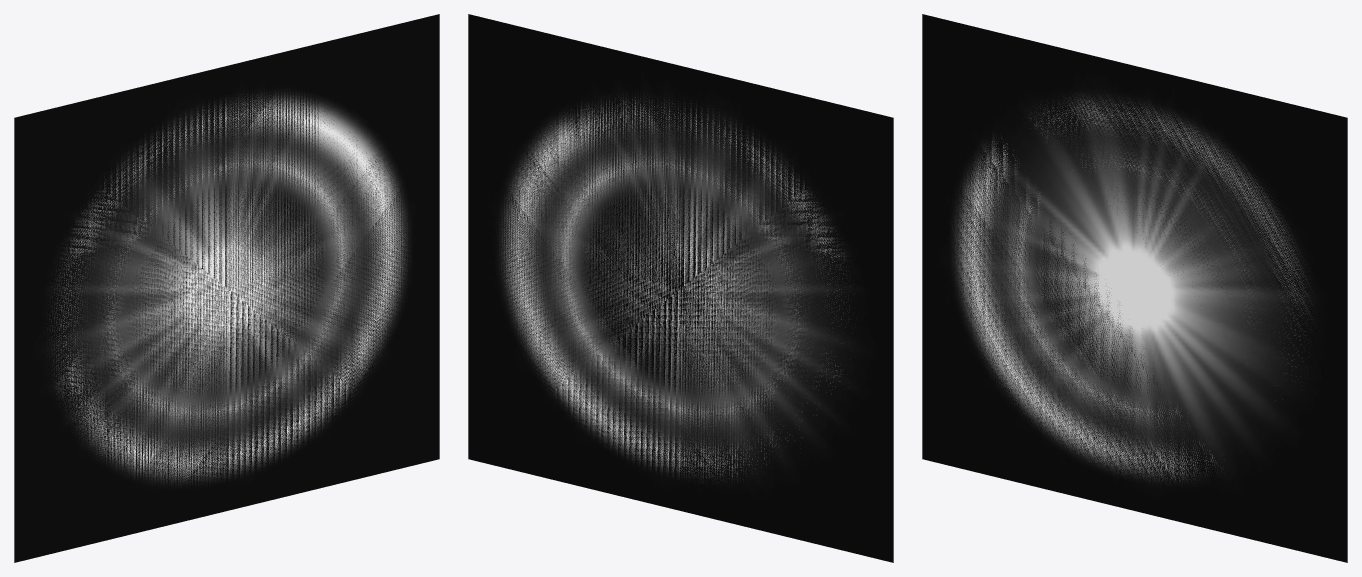
File: si_eah_0210.glb
3 views of the same model, side by side, from view 1: azimuth 30°, elevation 25°; view 2: azimuth 150°, elevation 25°; view 3: azimuth 330°, elevation 25° (orthographic).
Visible parts, largest first — view 1: layer_00_si_est_0003, layer_02_si_est_0404; view 2: layer_00_si_est_0003, layer_02_si_est_0404; view 3: layer_00_si_est_0003, layer_02_si_est_0404.
Part boxes in pixels (x1,y1,x2,y2): layer_00_si_est_0003: [14, 14, 439, 562]; layer_02_si_est_0404: [41, 49, 412, 527]; layer_00_si_est_0003: [468, 14, 893, 562]; layer_02_si_est_0404: [495, 52, 865, 497]; layer_00_si_est_0003: [922, 14, 1347, 562]; layer_02_si_est_0404: [949, 56, 1320, 506].
Bounding box in the file's own units: 40.19 × 40.19 × 3.03e-06.
3 materials, 3 textured.
